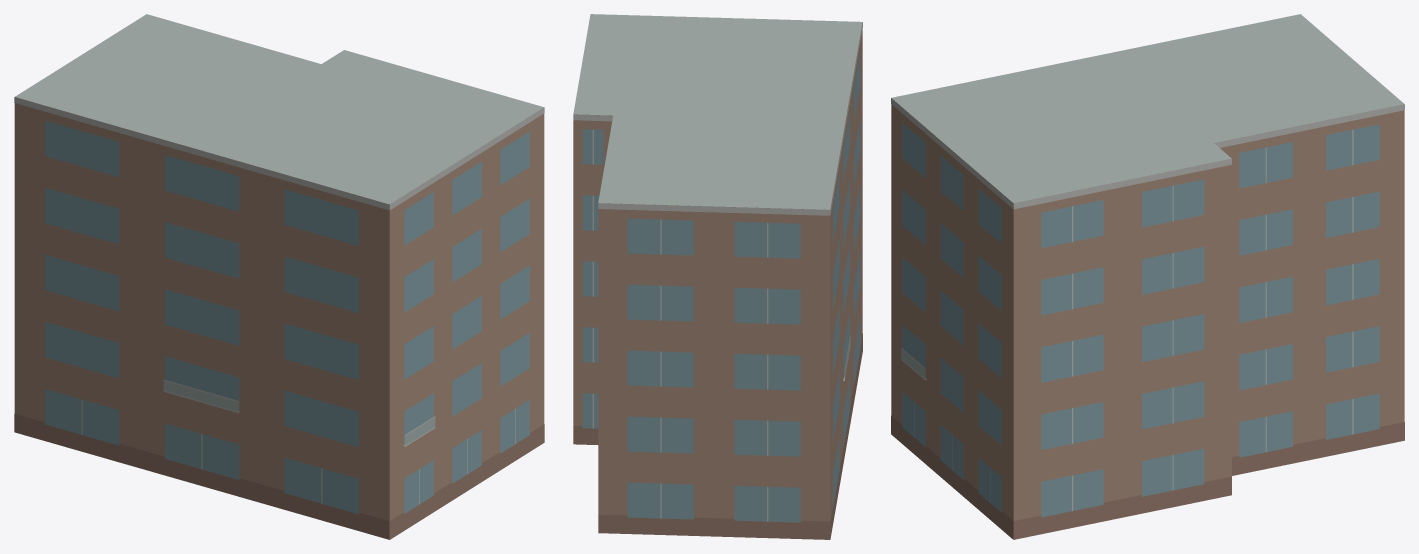
The model's file is survey-upis-32701173.glb.
3 views of the same model, side by side, from view 1: azimuth 30°, elevation 25°; view 2: azimuth 150°, elevation 25°; view 3: azimuth 270°, elevation 25° (orthographic).
Visible parts, largest first — view 1: survey-upis-32701173.tmp; view 2: survey-upis-32701173.tmp; view 3: survey-upis-32701173.tmp.
Part boxes in pixels (x1,y1,x2,y2): survey-upis-32701173.tmp: [14, 14, 544, 539]; survey-upis-32701173.tmp: [573, 14, 862, 539]; survey-upis-32701173.tmp: [891, 14, 1404, 539].
Size of the model in its own units: 16.42 by 13.6 by 18.82.
